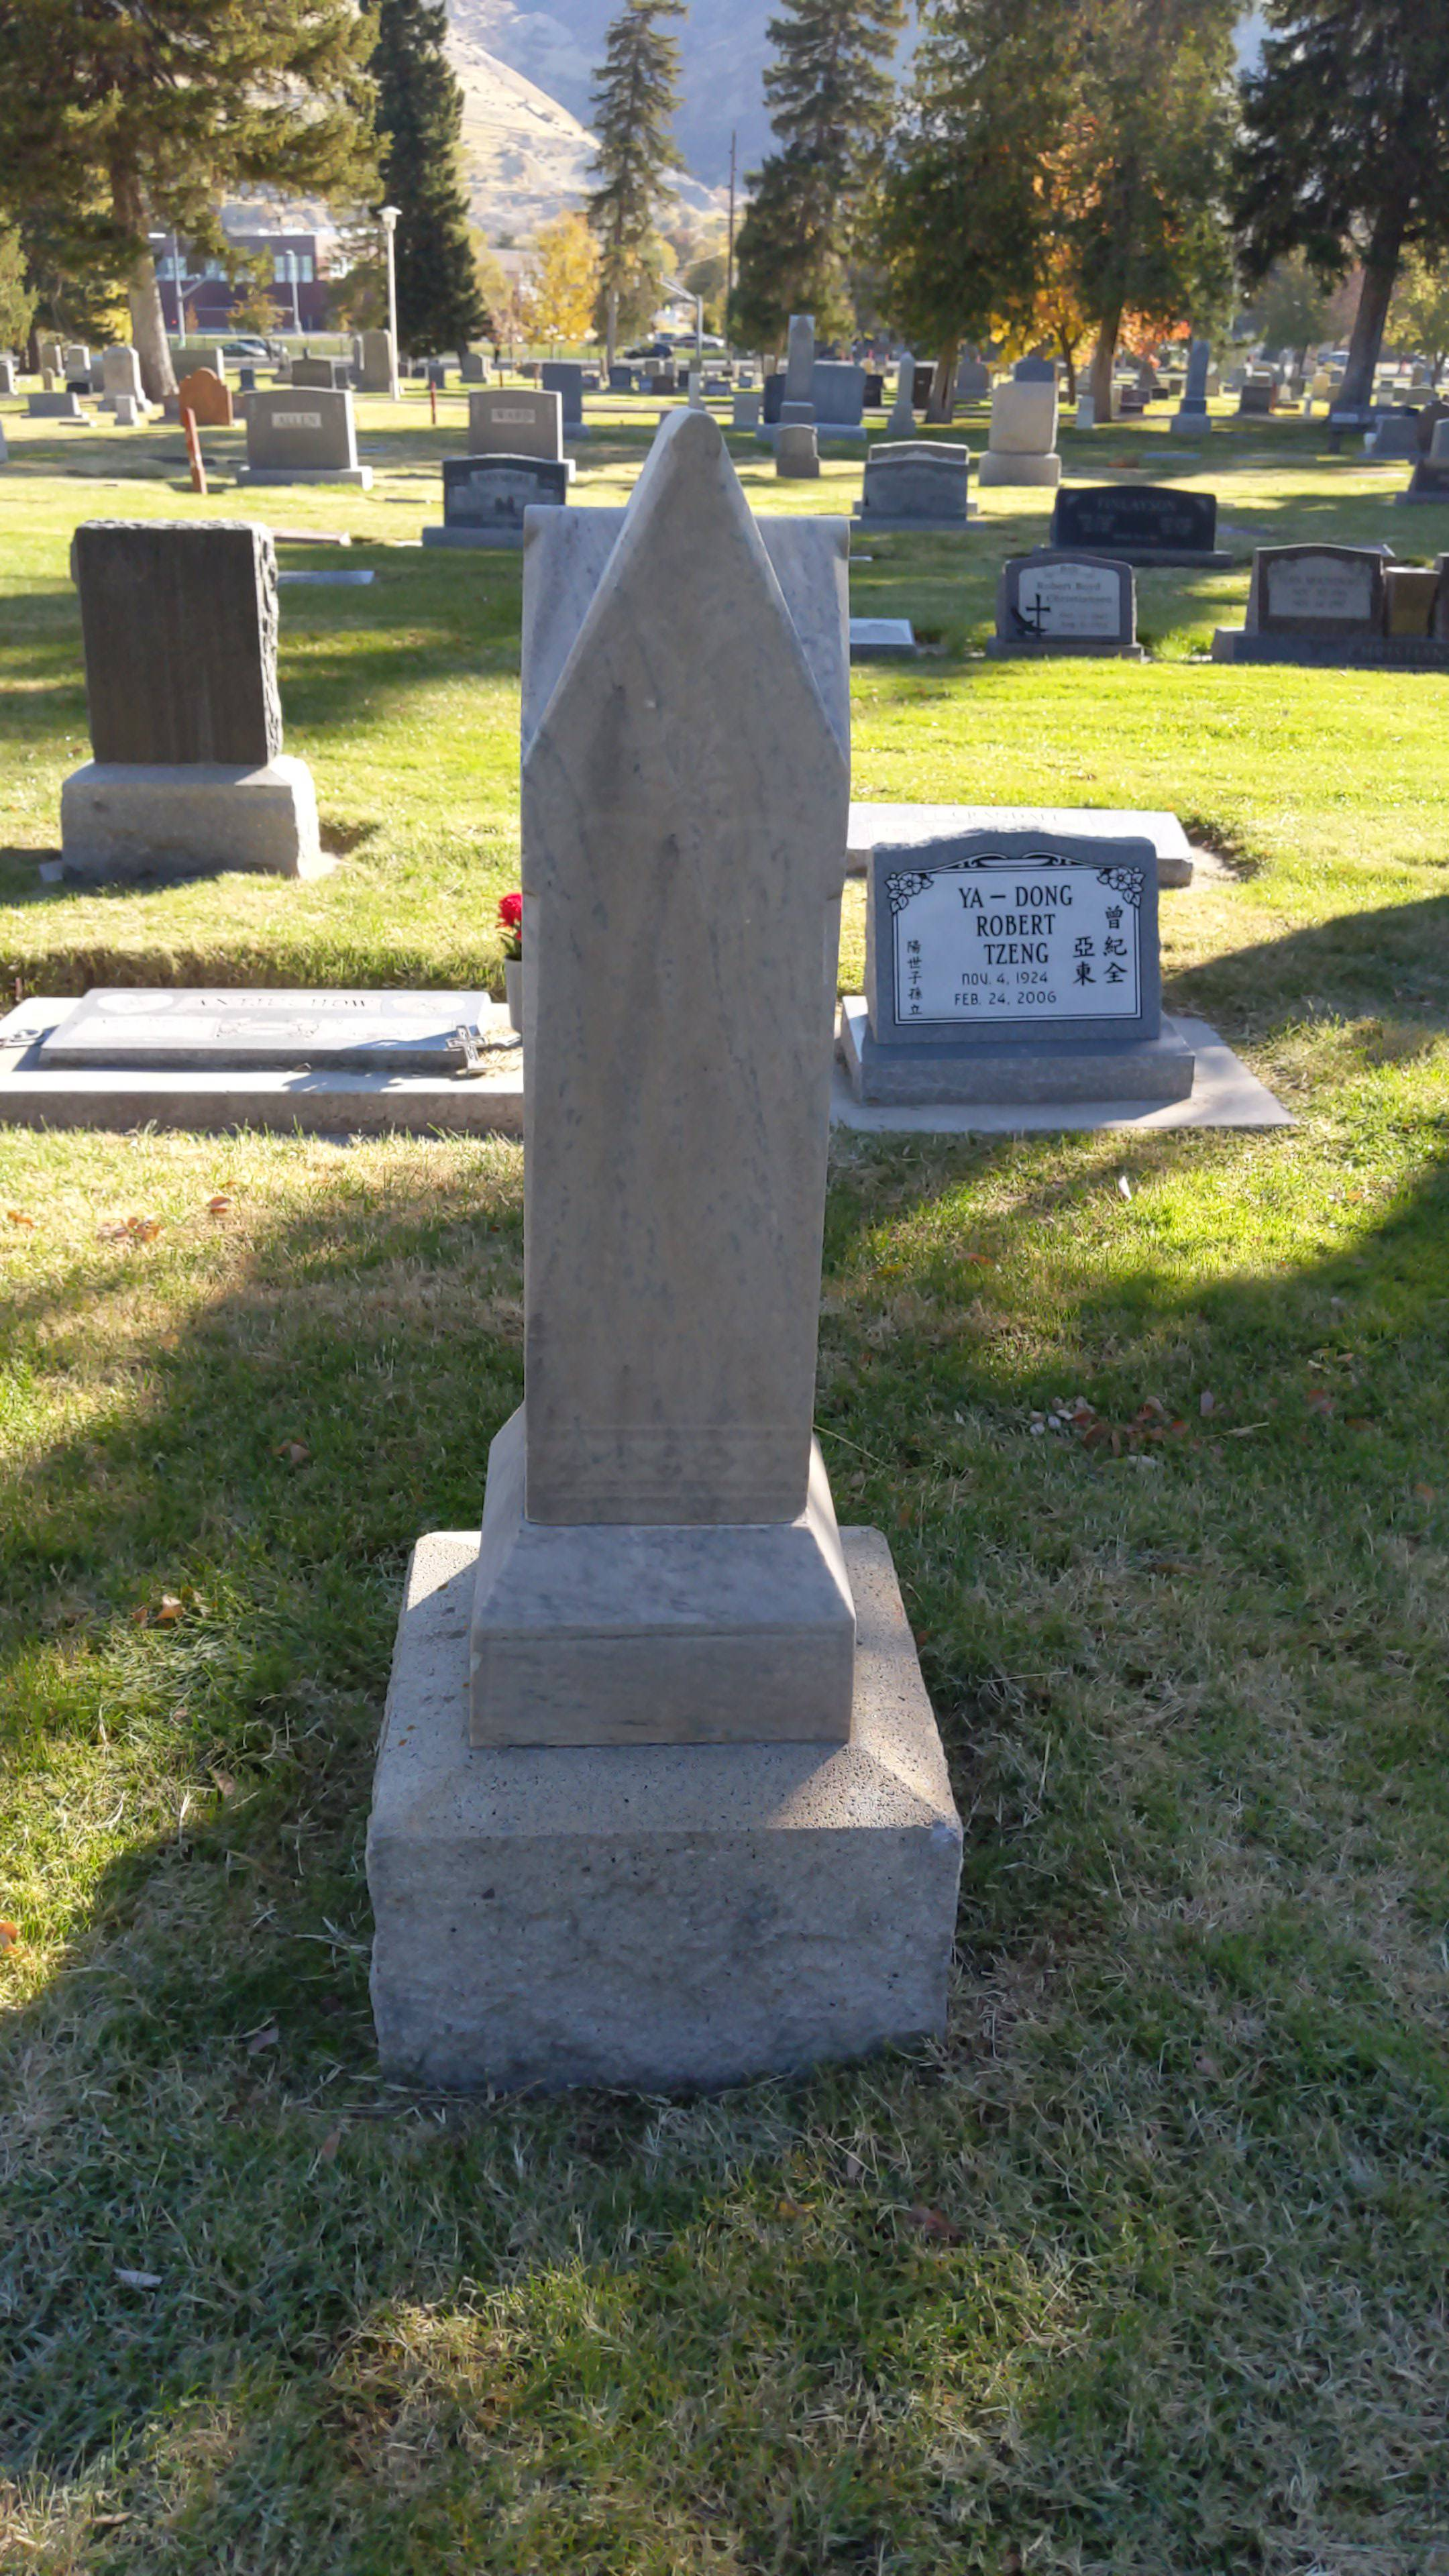obelisk: (469, 410, 853, 1755)
